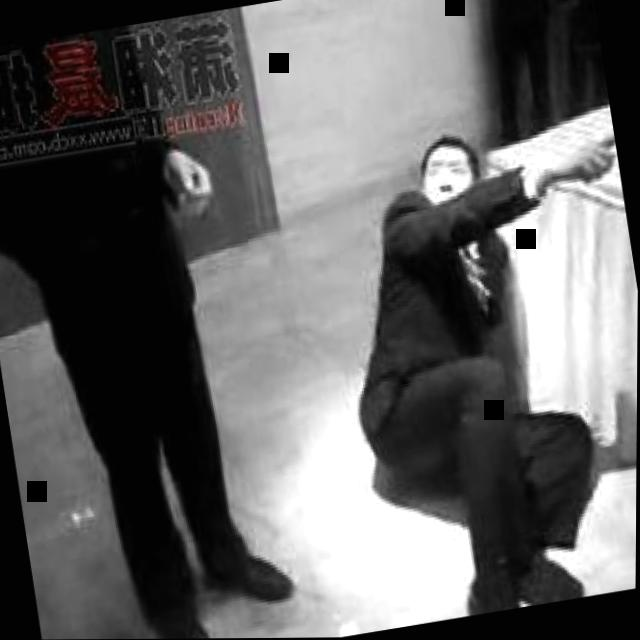Fall-Detected: (301, 78, 640, 625)
